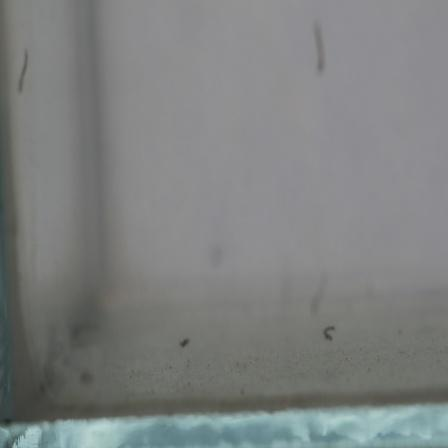Jentik-Nyamuk: (319, 318, 341, 345), (175, 334, 191, 352)
